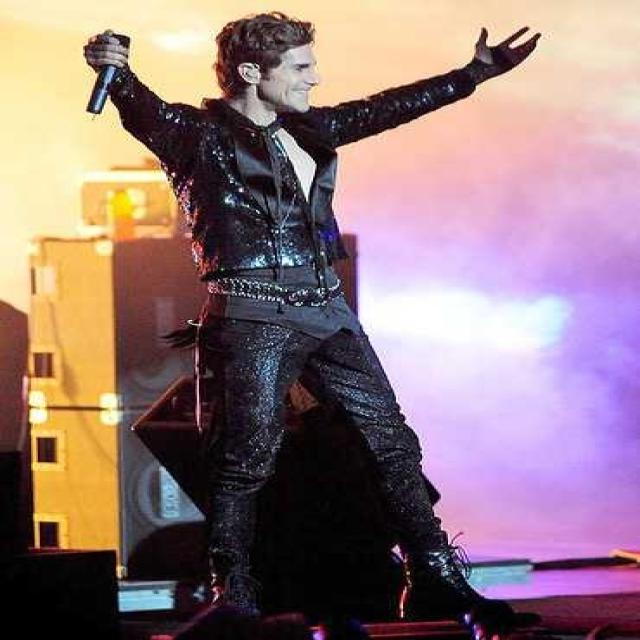microphone: (84, 32, 132, 117)
